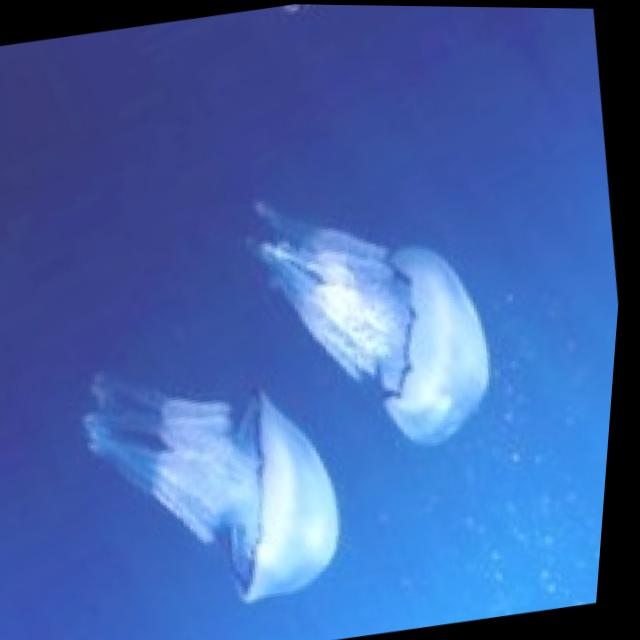Moon-jellyfish: (70, 335, 374, 630), (231, 167, 522, 474)
